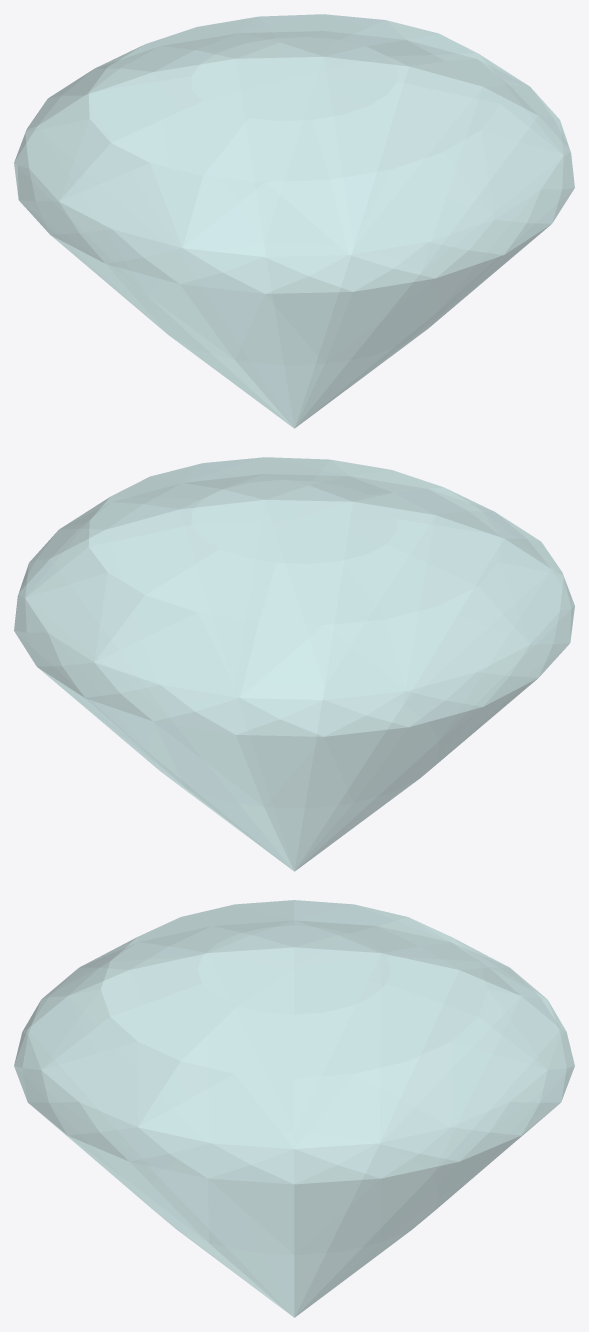
Rendered from Diamond2WithTexture.fbx.
The picture shows the model from 3 angles, top to bottom: view 1: azimuth 30°, elevation 25°; view 2: azimuth 150°, elevation 25°; view 3: azimuth 270°, elevation 25°; orthographic projection.
Visible parts, largest first — view 1: Diamond4; view 2: Diamond4; view 3: Diamond4.
Part boxes in pixels (bbox=[...]): Diamond4: bbox=[14, 14, 574, 428]; Diamond4: bbox=[14, 457, 574, 871]; Diamond4: bbox=[14, 900, 574, 1317].
Size of the model in its own units: 1.93 by 1.33 by 1.93.
